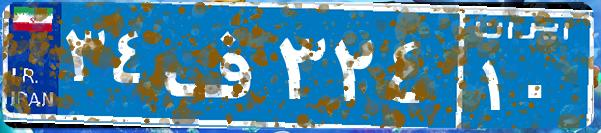0: (525, 38, 570, 115)
1: (475, 38, 525, 113)
2: (330, 28, 385, 110)
3: (273, 28, 330, 110), (57, 26, 110, 107)
4: (385, 28, 445, 110), (110, 28, 158, 105)
ف: (158, 15, 273, 115)
